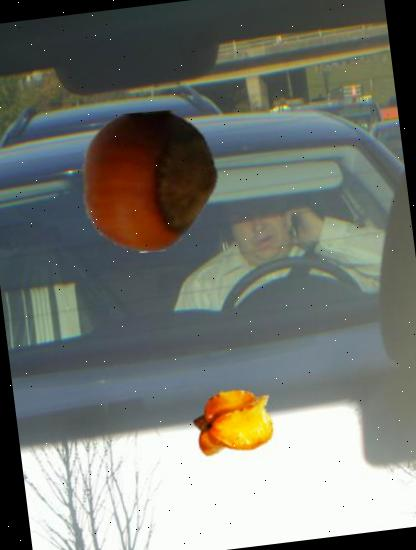Carambula: (185, 373, 284, 472)
Nut: (72, 105, 228, 260)
